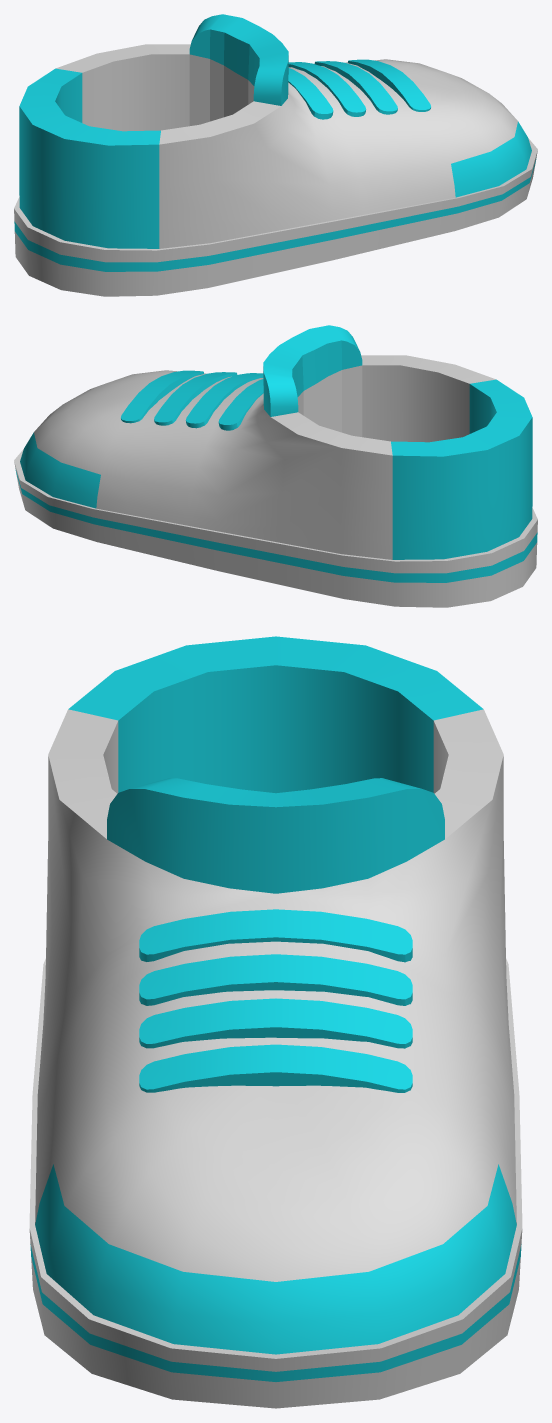
The model's file is Running_Shoe.gltf.
The picture shows the model from 3 angles, top to bottom: view 1: azimuth 30°, elevation 25°; view 2: azimuth 150°, elevation 25°; view 3: azimuth 270°, elevation 25°; orthographic projection. The views are drawn at different scales.
Visible parts, largest first — view 1: Sphere.363; view 2: Sphere.363; view 3: Sphere.363.
Part boxes in pixels (x1,y1,x2,y2): Sphere.363: (14, 14, 537, 296); Sphere.363: (14, 325, 537, 607); Sphere.363: (29, 636, 522, 1408).
Size of the model in its own units: 2.2 by 0.7812 by 0.9528.
